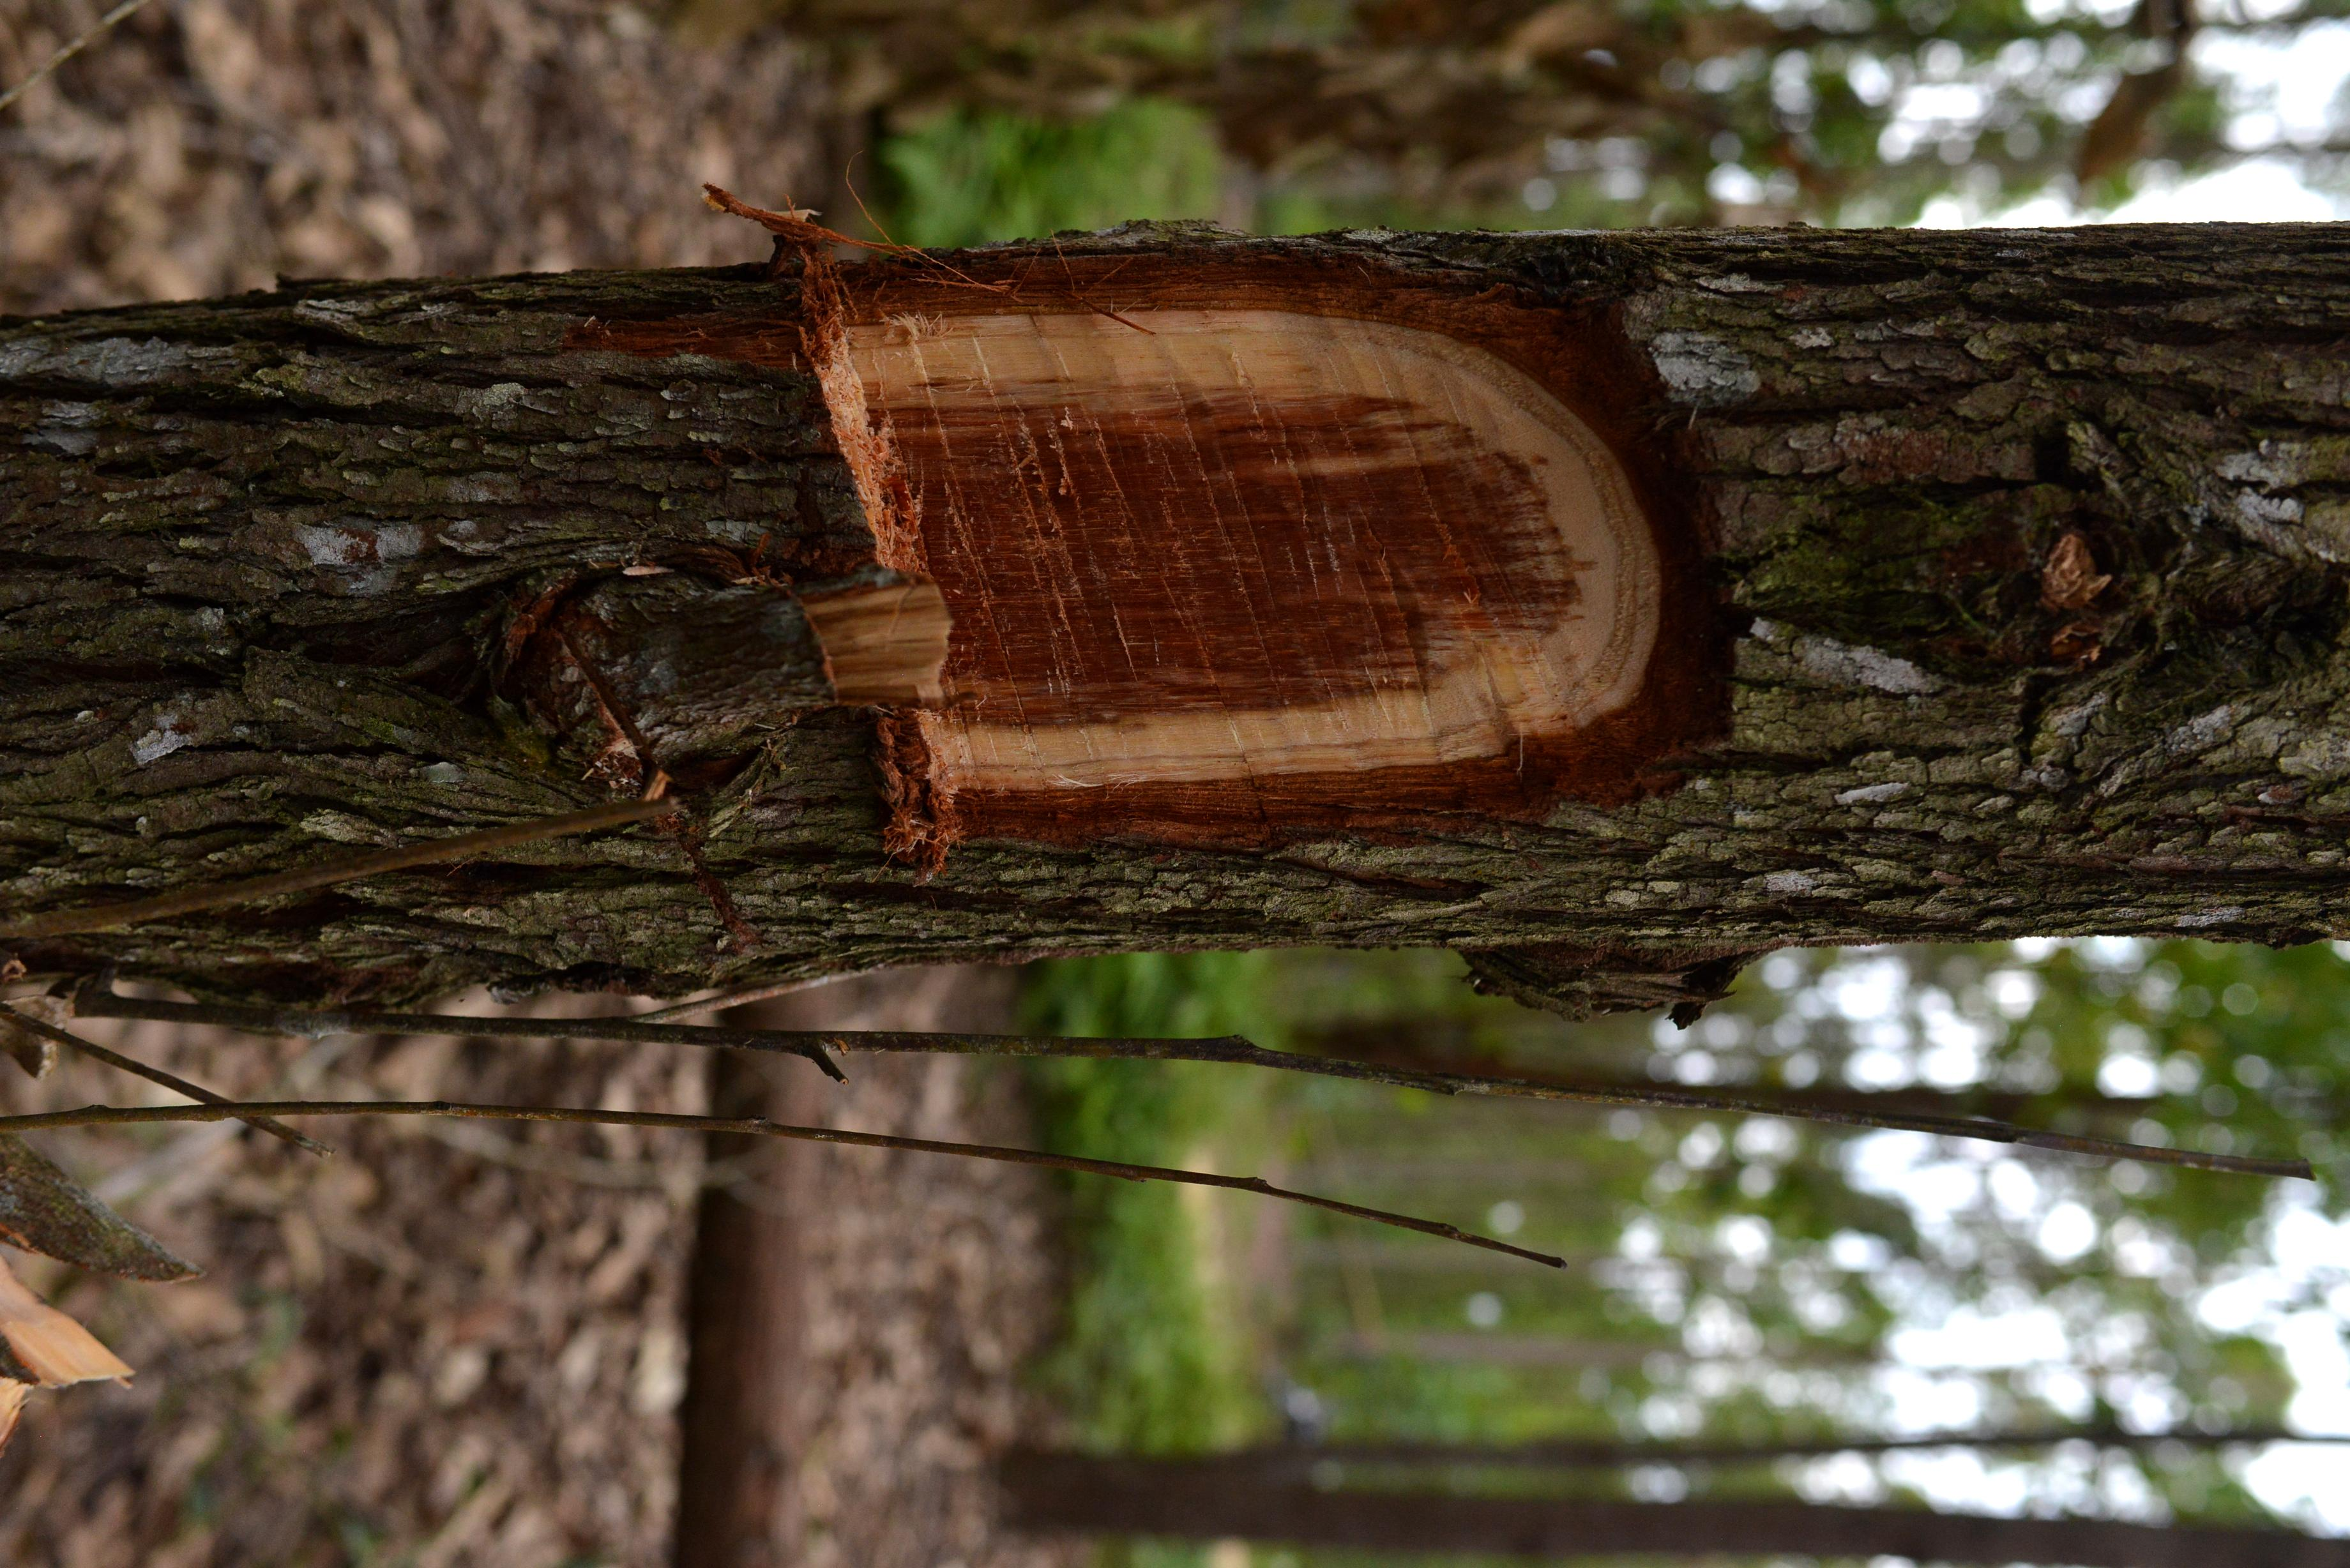Ceratocystis - Inner: (751, 224, 1708, 845)
